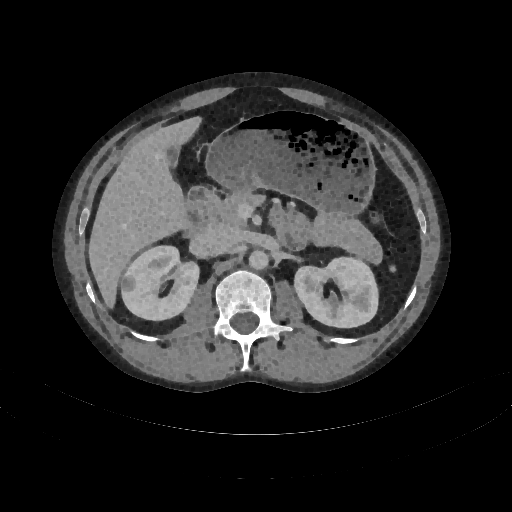Lesion: (120, 275, 139, 295)
